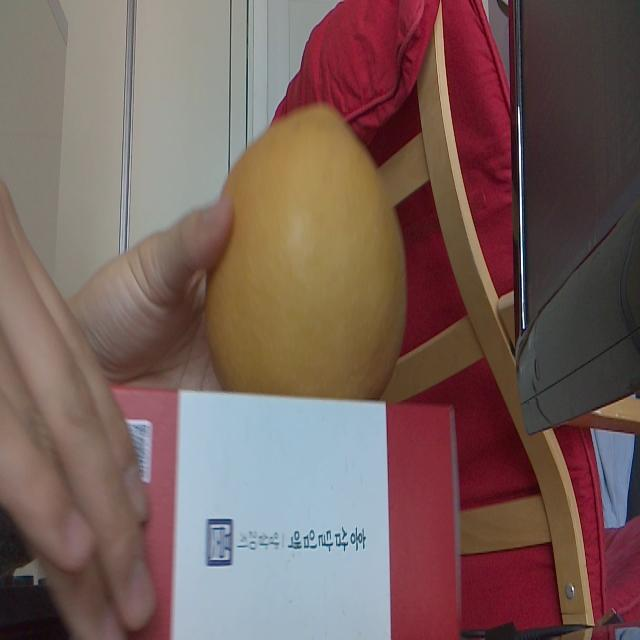pear: (205, 103, 409, 400)
